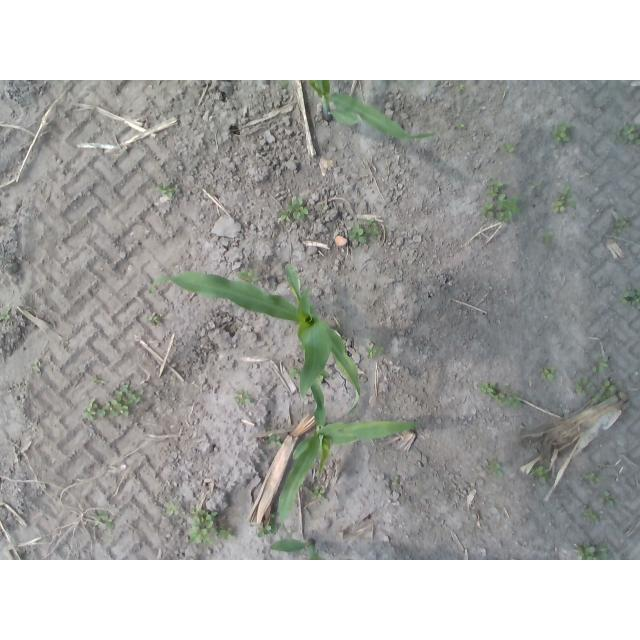Maize: (151, 266, 363, 399), (274, 357, 415, 519), (310, 81, 435, 140), (264, 537, 319, 559)
Weeds: (97, 380, 143, 418), (189, 510, 218, 546), (551, 189, 576, 213), (496, 196, 520, 220), (619, 124, 640, 145), (578, 545, 607, 560), (286, 199, 309, 217), (488, 182, 506, 200), (350, 223, 367, 242), (623, 290, 640, 307), (365, 343, 384, 358), (164, 500, 180, 517), (534, 466, 549, 484), (556, 126, 571, 143), (577, 379, 592, 396), (84, 400, 96, 421), (238, 268, 259, 280), (310, 485, 327, 499), (95, 515, 114, 527), (499, 393, 521, 403), (481, 383, 495, 398), (490, 460, 503, 476), (604, 380, 617, 396), (541, 368, 556, 381), (592, 361, 608, 373), (605, 490, 616, 507), (480, 204, 494, 217), (257, 524, 272, 536), (157, 185, 175, 194), (584, 508, 597, 520), (219, 527, 233, 538), (614, 220, 625, 234), (540, 233, 552, 244), (504, 142, 516, 153), (585, 473, 597, 483), (95, 375, 106, 385), (1, 311, 10, 322), (368, 226, 379, 234), (150, 312, 159, 321), (367, 217, 377, 225), (390, 477, 398, 486), (456, 124, 465, 130)
